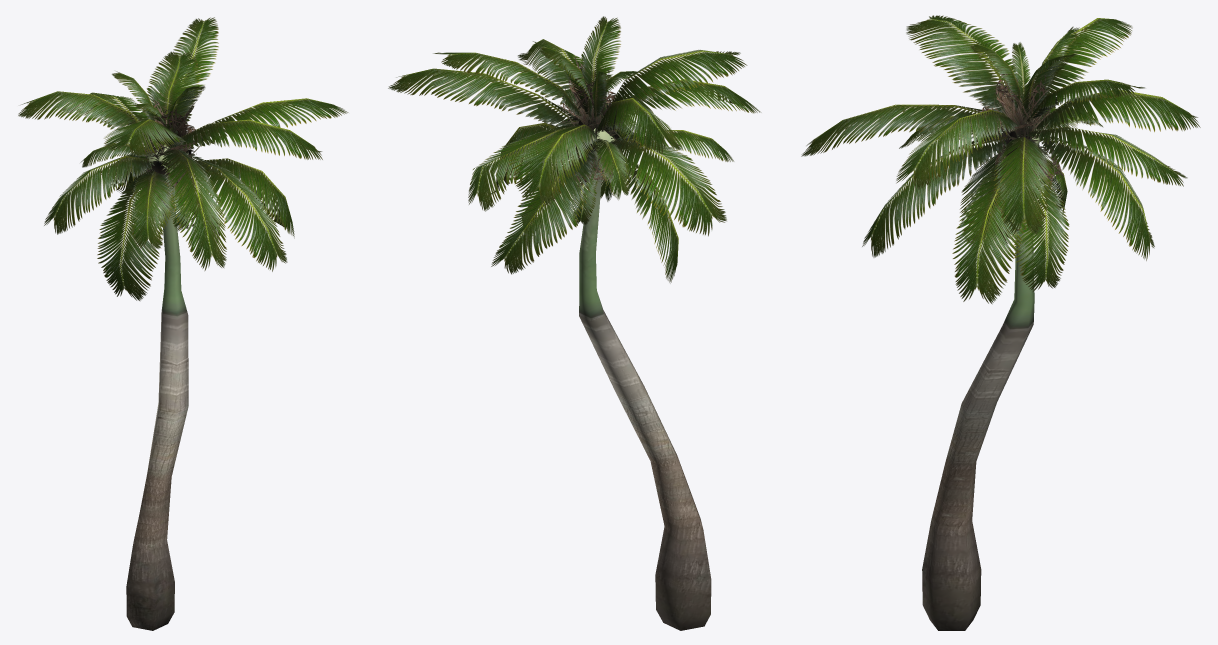
The model's file is Palm1_VAR1.glb.
The picture shows the model from 3 angles, left to right: view 1: azimuth 30°, elevation 25°; view 2: azimuth 150°, elevation 25°; view 3: azimuth 270°, elevation 25°; orthographic projection. The views are drawn at different scales.
Visible parts, largest first — view 1: Palm1_VAR1; view 2: Palm1_VAR1; view 3: Palm1_VAR1.
Boxes of the visible parts, box(x1,y1,x2,y2) form: Palm1_VAR1: box(18, 17, 348, 630); Palm1_VAR1: box(388, 16, 761, 630); Palm1_VAR1: box(801, 15, 1200, 630).
Bounding box in the file's own units: 3.18 × 5.28 × 3.16.
Materials: 1 (1 with a texture image).
